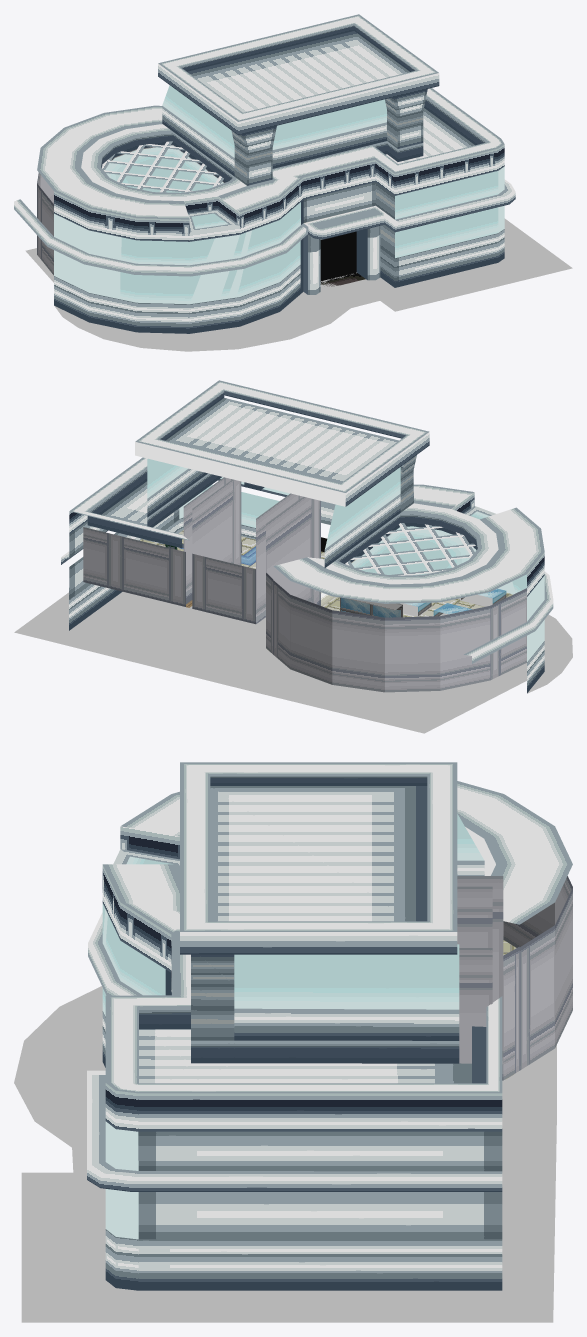
3 renders of one model, top to bottom at view 1: azimuth 30°, elevation 25°; view 2: azimuth 150°, elevation 25°; view 3: azimuth 270°, elevation 25°, orthographic. The views are drawn at different scales.
Visible parts, largest first — view 1: polygon3, polygon1, polygon2, polygon10, polygon0, polygon5; view 2: polygon1, polygon5, polygon10, polygon3, polygon2, polygon0, polygon6, polygon12, polygon9; view 3: polygon1, polygon3, polygon10, polygon2, polygon5.
Part boxes in pixels (x1=…): polygon3: x1=14, y1=89, x2=515, y2=333; polygon1: x1=37, y1=14, x2=504, y2=232; polygon2: x1=54, y1=85, x2=504, y2=304; polygon10: x1=25, y1=218, x2=572, y2=351; polygon0: x1=102, y1=141, x2=223, y2=192; polygon5: x1=37, y1=145, x2=224, y2=275; polygon1: x1=69, y1=380, x2=544, y2=603; polygon5: x1=83, y1=477, x2=526, y2=692; polygon10: x1=14, y1=551, x2=572, y2=733; polygon3: x1=61, y1=455, x2=553, y2=693; polygon2: x1=147, y1=458, x2=544, y2=661; polygon0: x1=345, y1=523, x2=475, y2=575; polygon6: x1=140, y1=530, x2=512, y2=653; polygon12: x1=340, y1=597, x2=402, y2=617; polygon9: x1=404, y1=588, x2=506, y2=616; polygon1: x1=102, y1=762, x2=572, y2=1131; polygon3: x1=87, y1=860, x2=502, y2=1290; polygon10: x1=14, y1=986, x2=556, y2=1322; polygon2: x1=102, y1=814, x2=484, y2=1239; polygon5: x1=457, y1=876, x2=572, y2=1080.
Size of the model in its own units: 8.64 by 3.48 by 5.57.
